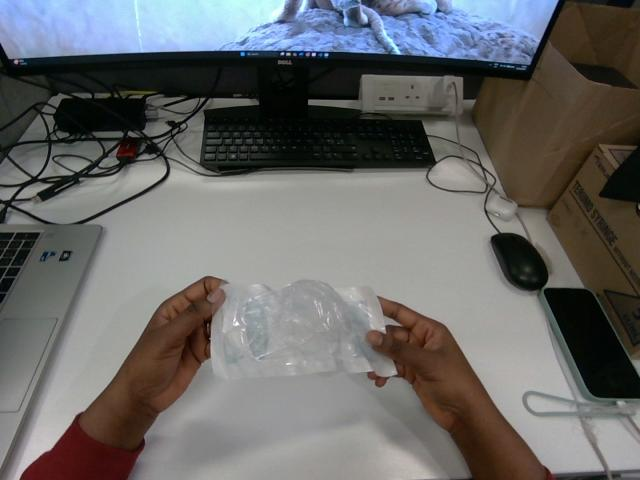gallipot: (211, 280, 396, 378)
